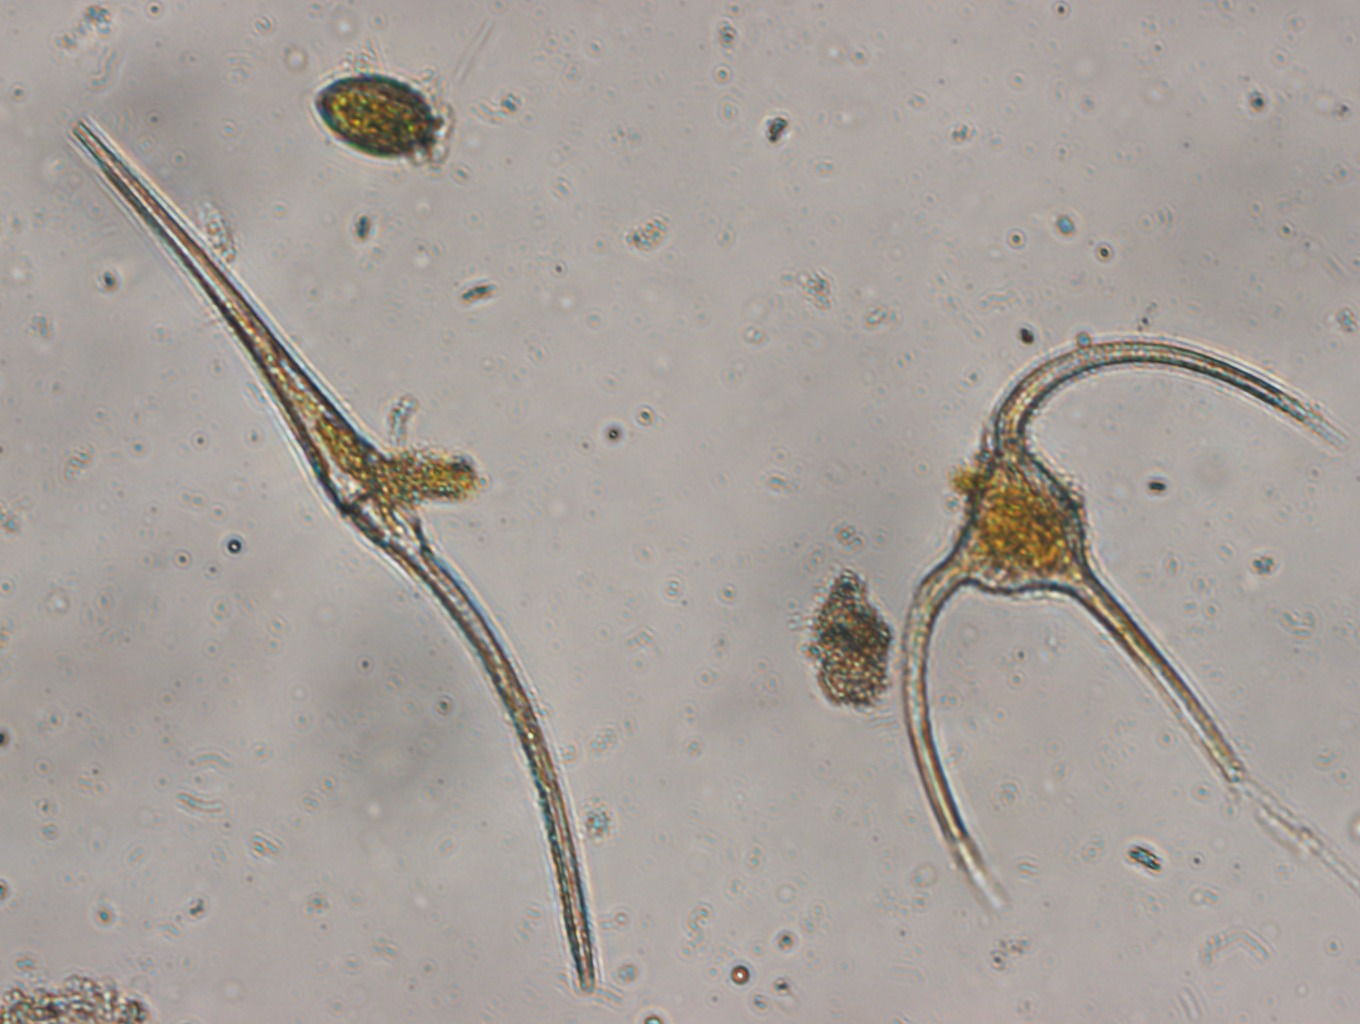ceratium fusus: (65, 112, 601, 1000)
ceratium trichoceros: (894, 327, 1356, 940)
